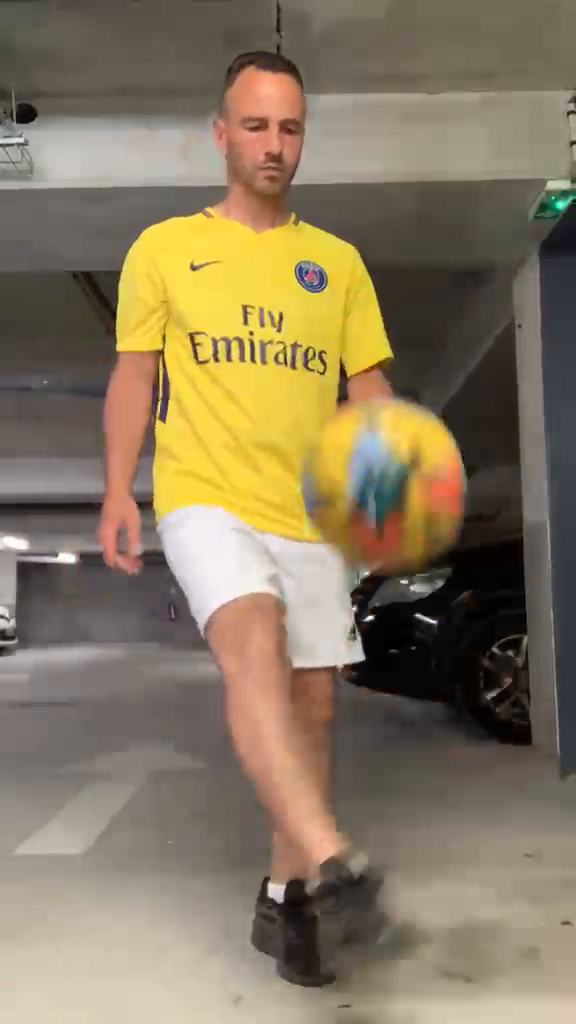ball: (294, 398, 473, 577)
